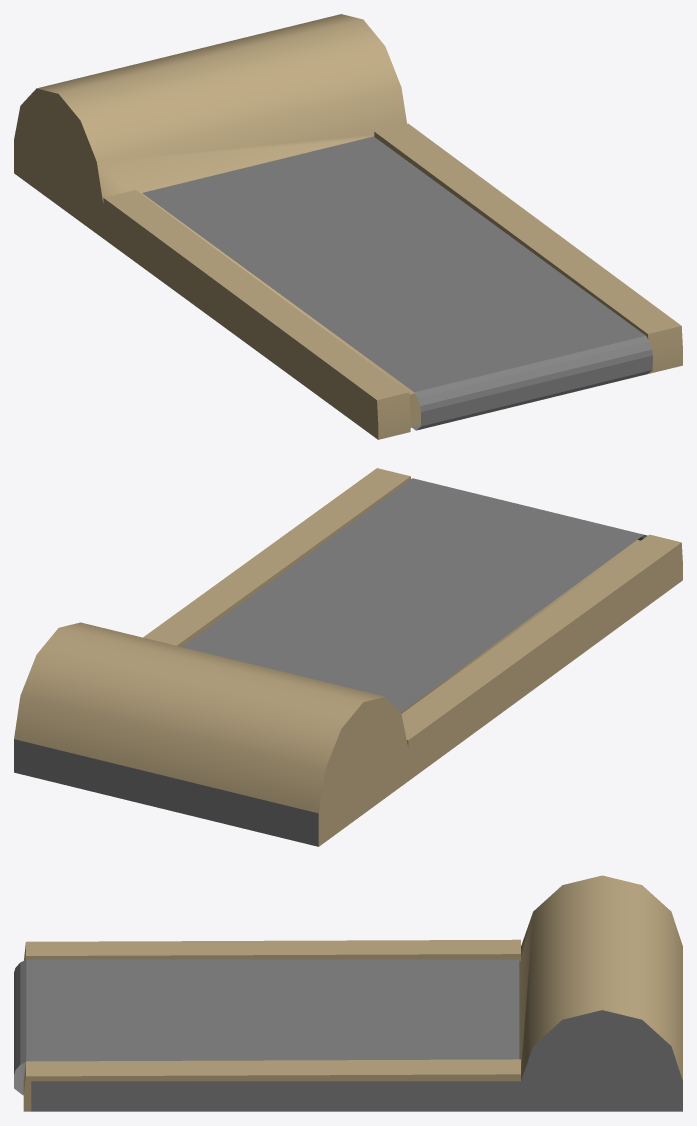
File: treadmill.FBX
The picture shows the model from 3 angles, top to bottom: view 1: azimuth 30°, elevation 25°; view 2: azimuth 150°, elevation 25°; view 3: azimuth 270°, elevation 25°; orthographic projection. The views are drawn at different scales.
Visible parts, largest first — view 1: Plane001; view 2: Plane001; view 3: Plane001.
Part boxes in pixels (<box>): Plane001: <box>14,14,682,439</box>; Plane001: <box>14,468,682,846</box>; Plane001: <box>14,875,682,1111</box>.
Bounding box in the file's own units: 46.77 × 98.24 × 16.44.
